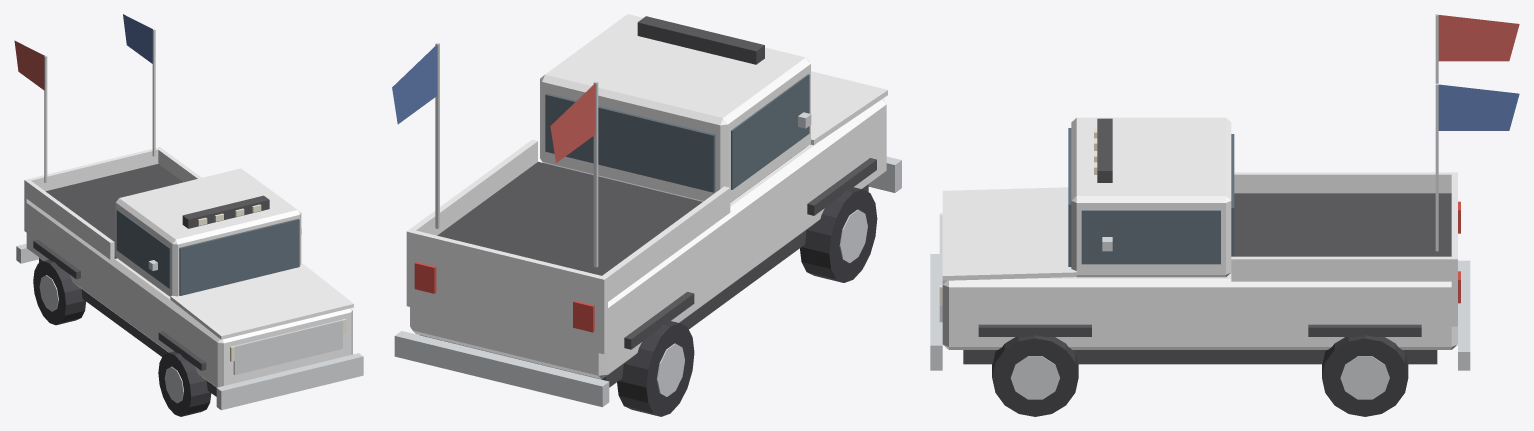
The model's file is rally_truck.glb.
3 views of the same model, side by side, from view 1: azimuth 30°, elevation 25°; view 2: azimuth 150°, elevation 25°; view 3: azimuth 270°, elevation 25° (orthographic). The views are drawn at different scales.
Parts seen in each view (by area): view 1: rt_paint_mesh, rt_trim_mesh; view 2: rt_paint_mesh, rt_trim_mesh; view 3: rt_paint_mesh, rt_trim_mesh.
Part boxes in pixels (box(x1,y1,x2,y2)): rt_paint_mesh: box(24, 147, 353, 387); rt_trim_mesh: box(14, 14, 363, 416); rt_paint_mesh: box(406, 14, 887, 379); rt_trim_mesh: box(392, 16, 901, 416); rt_paint_mesh: box(942, 117, 1457, 349); rt_trim_mesh: box(930, 14, 1519, 416).
Bounding box in the file's own units: 2.32 × 3.4 × 5.72.
